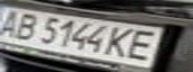1: (51, 17, 75, 48)
4: (84, 22, 112, 55), (69, 20, 90, 52)
5: (30, 15, 63, 46)
A: (0, 7, 27, 38)
B: (6, 10, 45, 42)
E: (121, 28, 169, 62)
K: (100, 25, 139, 60)
